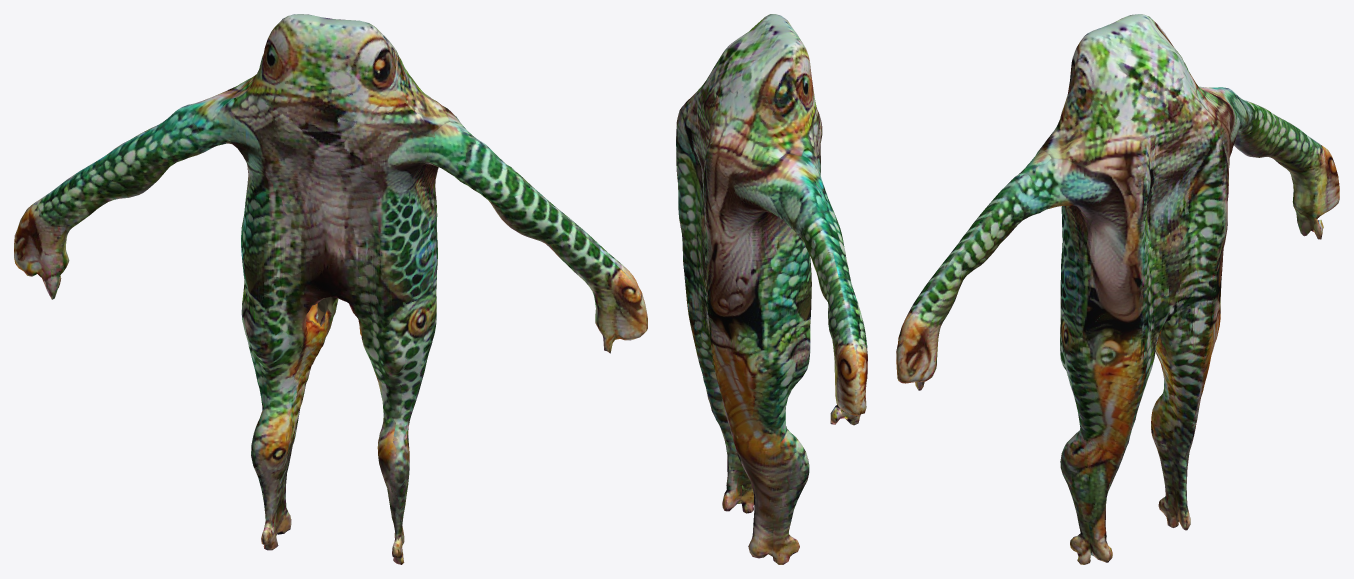
3 views of the same model, side by side, from view 1: azimuth 30°, elevation 25°; view 2: azimuth 150°, elevation 25°; view 3: azimuth 270°, elevation 25° (orthographic). The views are drawn at different scales.
Parts seen in each view (by area): view 1: Node #0; view 2: Node #0; view 3: Node #0.
Part boxes in pixels (box(x1,y1,x2,y2)): Node #0: box(14, 14, 647, 564); Node #0: box(676, 14, 867, 564); Node #0: box(896, 14, 1339, 564).
Bounding box in the file's own units: 0.7794 × 1 × 0.7803.
1 material, 1 textured.
